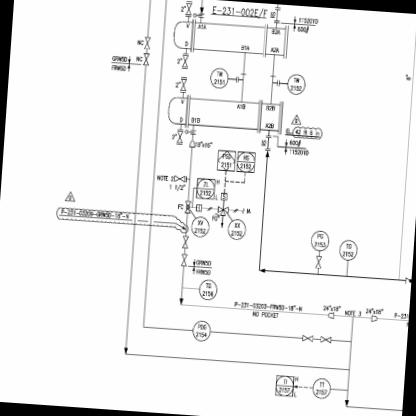LMI: (304, 223, 334, 253), (286, 68, 310, 96), (206, 64, 230, 90), (198, 276, 221, 302), (192, 317, 212, 343), (312, 376, 332, 401), (338, 236, 358, 261), (190, 216, 210, 239), (227, 218, 247, 240)
TAG: (273, 374, 295, 401), (236, 150, 257, 174), (196, 178, 216, 200)
